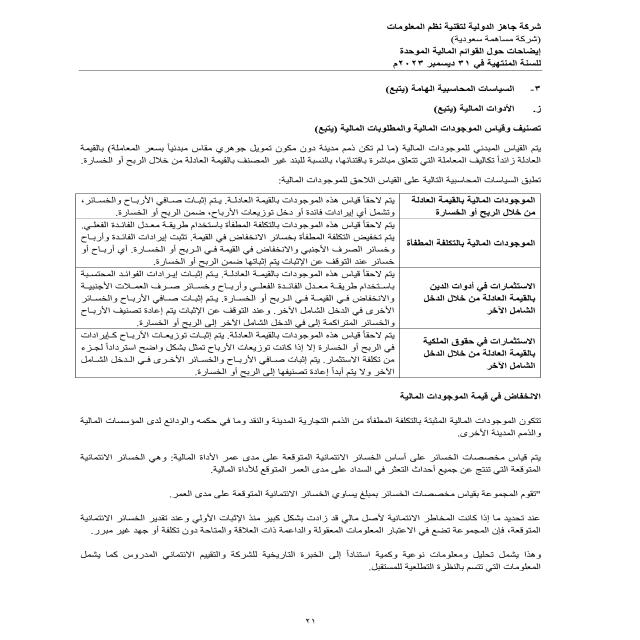notes: (395, 44, 554, 56)
table: (56, 190, 548, 383)
